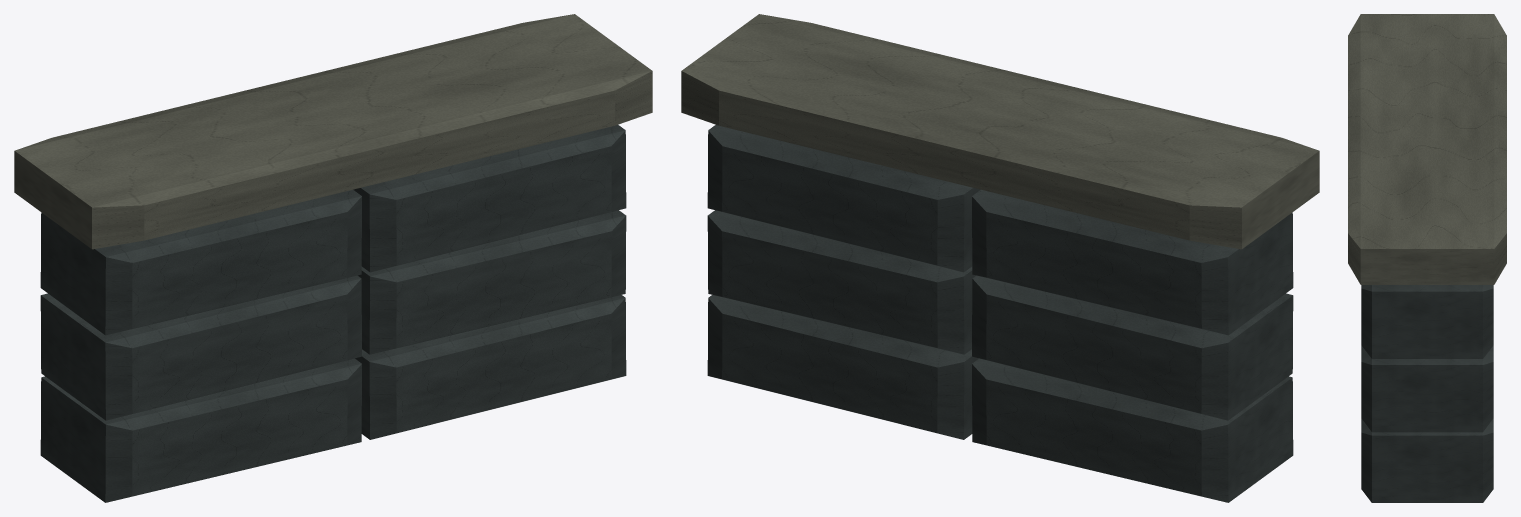
File: wall.glb
3 views of the same model, side by side, from view 1: azimuth 30°, elevation 25°; view 2: azimuth 150°, elevation 25°; view 3: azimuth 270°, elevation 25° (orthographic). The views are drawn at different scales.
Parts seen in each view (by area): view 1: wall-masonry (×6), wall-coping; view 2: wall-masonry (×6), wall-coping; view 3: wall-coping, wall-masonry (×3).
Boxes of the visible parts, bbox=[...] form: wall-masonry (×6): bbox=[40, 125, 626, 502]; wall-coping: bbox=[14, 14, 652, 249]; wall-masonry (×6): bbox=[707, 125, 1293, 502]; wall-coping: bbox=[681, 14, 1319, 249]; wall-coping: bbox=[1348, 14, 1506, 284]; wall-masonry (×3): bbox=[1361, 285, 1493, 502].
Size of the model in its own units: 2.1 by 1.1 by 0.6.
Materials: 2 (2 with a texture image).
